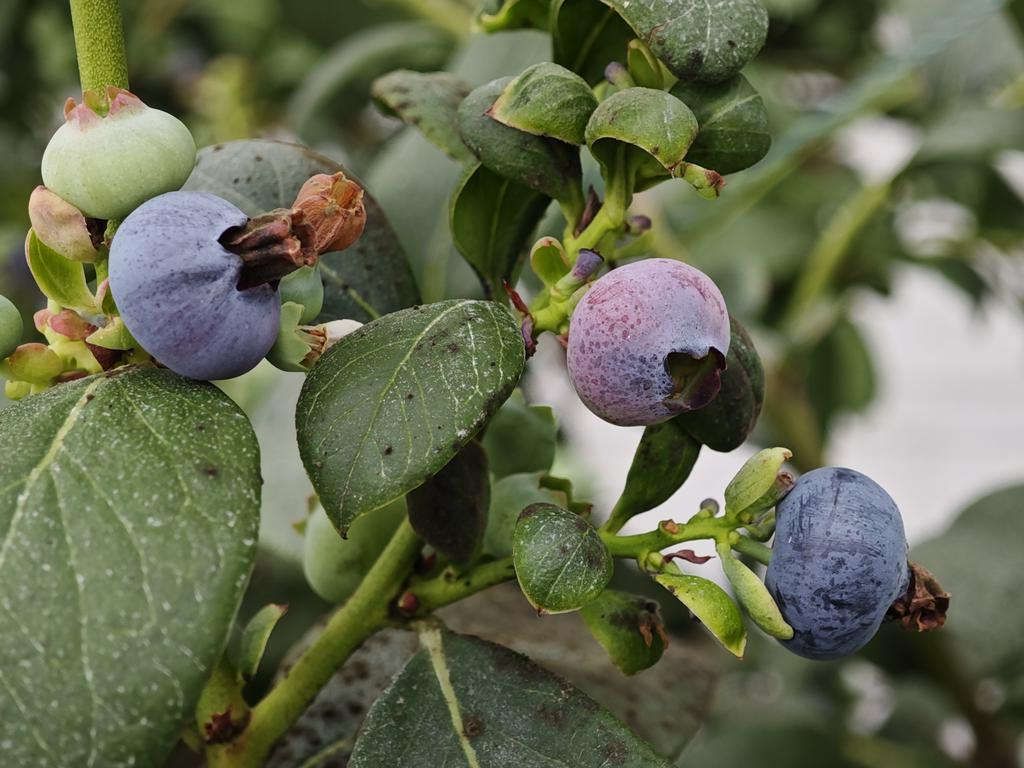RipeBlueBerry: (104, 189, 293, 382), (763, 462, 929, 665)
Semi-RipeBlueBerry: (565, 253, 738, 429)
UnripeBlueBerry: (39, 89, 199, 215)
